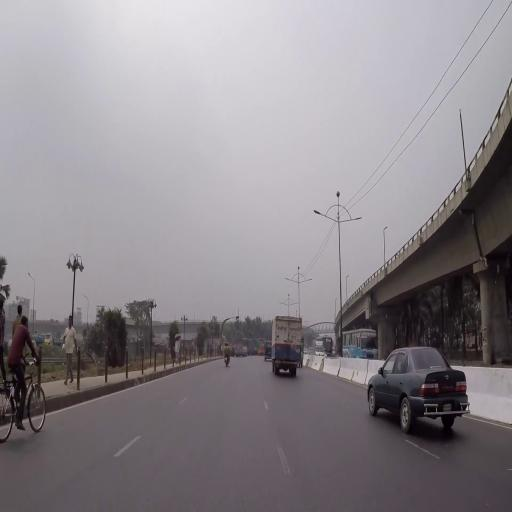bicycle: (1, 314, 48, 446)
bus: (343, 330, 378, 359), (235, 337, 249, 358), (322, 335, 334, 357), (259, 339, 265, 357)
car: (368, 344, 471, 432)
minivan: (265, 341, 272, 362)
motorbike: (224, 342, 232, 367)
pickup: (273, 317, 304, 376), (316, 340, 326, 357)
